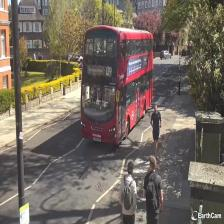person: (143, 157, 163, 223), (118, 161, 136, 224), (150, 103, 162, 162)
